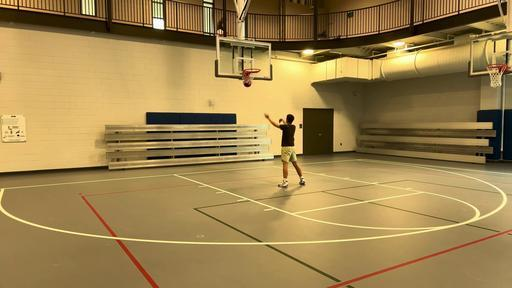ball: (244, 81, 252, 87)
human: (264, 113, 306, 188)
rim: (486, 63, 508, 87), (243, 68, 261, 85)
